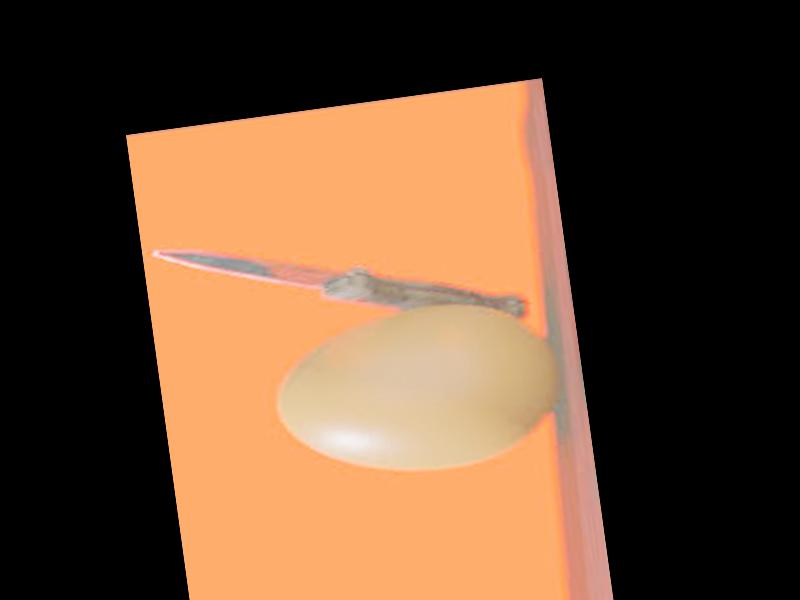Eggs: (271, 292, 563, 486)
